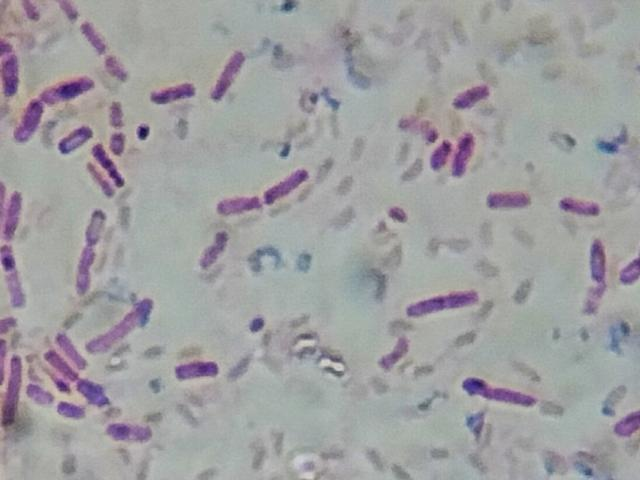E. coli: (86, 298, 155, 351), (409, 285, 482, 326), (465, 372, 534, 414), (82, 16, 127, 77), (583, 235, 608, 322), (2, 245, 33, 311), (82, 146, 123, 192), (262, 165, 307, 206), (453, 77, 501, 114), (36, 73, 92, 102), (379, 336, 416, 379), (213, 186, 266, 216), (213, 46, 243, 97), (0, 356, 20, 430), (0, 187, 27, 238), (0, 36, 25, 91), (486, 190, 534, 218), (195, 230, 231, 267), (151, 77, 196, 106), (109, 417, 153, 446), (173, 355, 220, 382), (75, 245, 98, 296), (608, 403, 640, 438), (455, 129, 478, 176), (85, 203, 110, 246), (9, 105, 42, 137), (60, 328, 88, 365), (432, 133, 456, 176), (46, 349, 72, 387), (61, 123, 92, 154), (563, 193, 592, 224), (106, 102, 124, 147), (11, 0, 41, 25), (81, 379, 106, 409), (58, 400, 89, 424), (619, 250, 640, 285)
